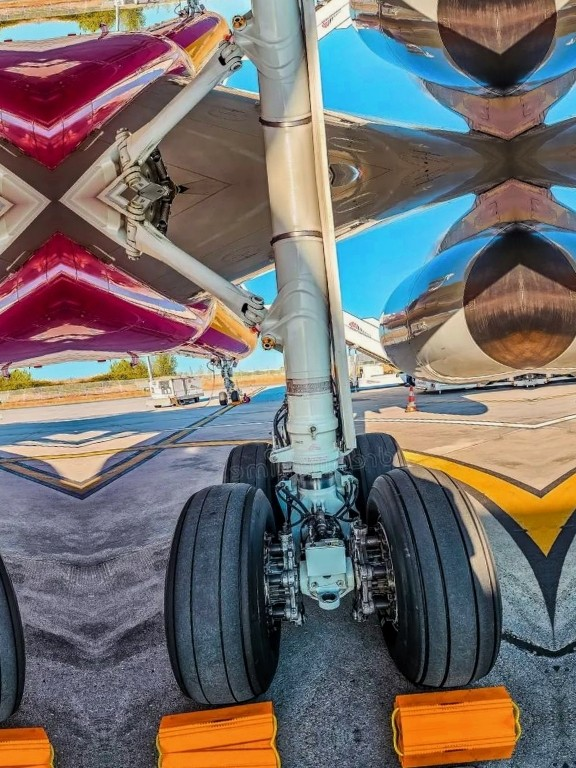chock: (150, 698, 278, 755), (388, 679, 522, 732), (392, 722, 526, 768), (154, 743, 282, 768), (0, 718, 57, 768), (232, 400, 242, 407)
wheel: (361, 460, 507, 692), (153, 480, 291, 708), (218, 439, 285, 532), (347, 429, 409, 513), (219, 391, 229, 405), (231, 390, 240, 402)
